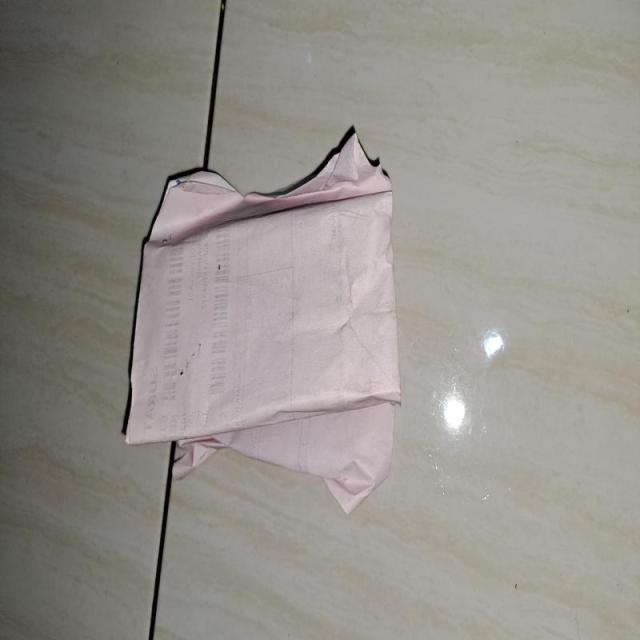Organik: (114, 102, 410, 526)
